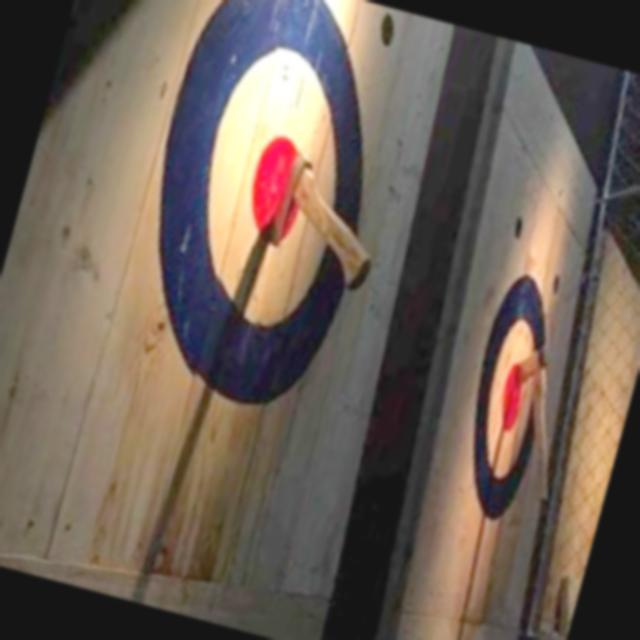ax: (242, 136, 411, 308), (464, 316, 600, 512)
